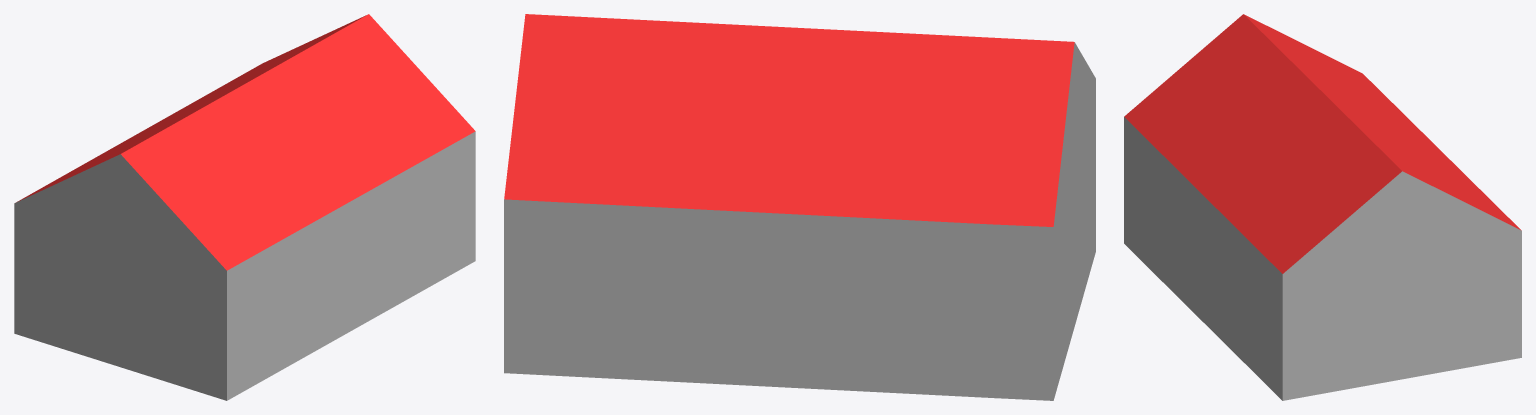
Rendered from DEBY_LOD2_4783080.dae.
The picture shows the model from 3 angles, left to right: view 1: azimuth 30°, elevation 25°; view 2: azimuth 150°, elevation 25°; view 3: azimuth 270°, elevation 25°; orthographic projection. The views are drawn at different scales.
Size of the model in its own units: 6.75 by 5.66 by 3.27.
